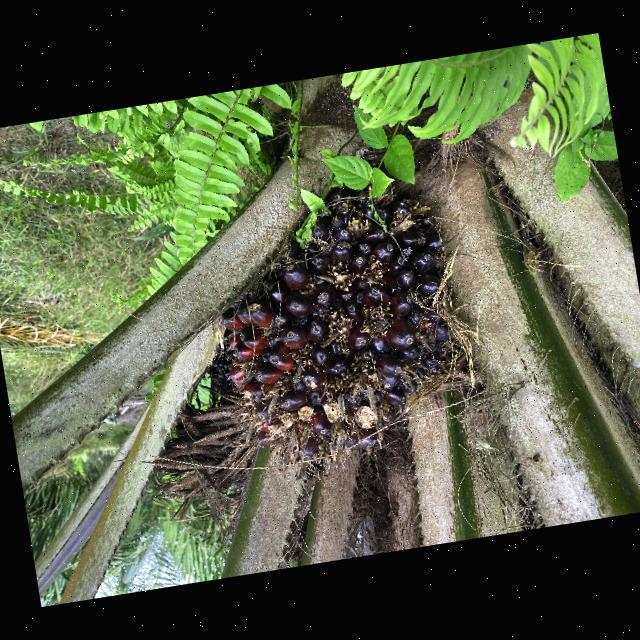Unripe: (218, 186, 452, 462)
